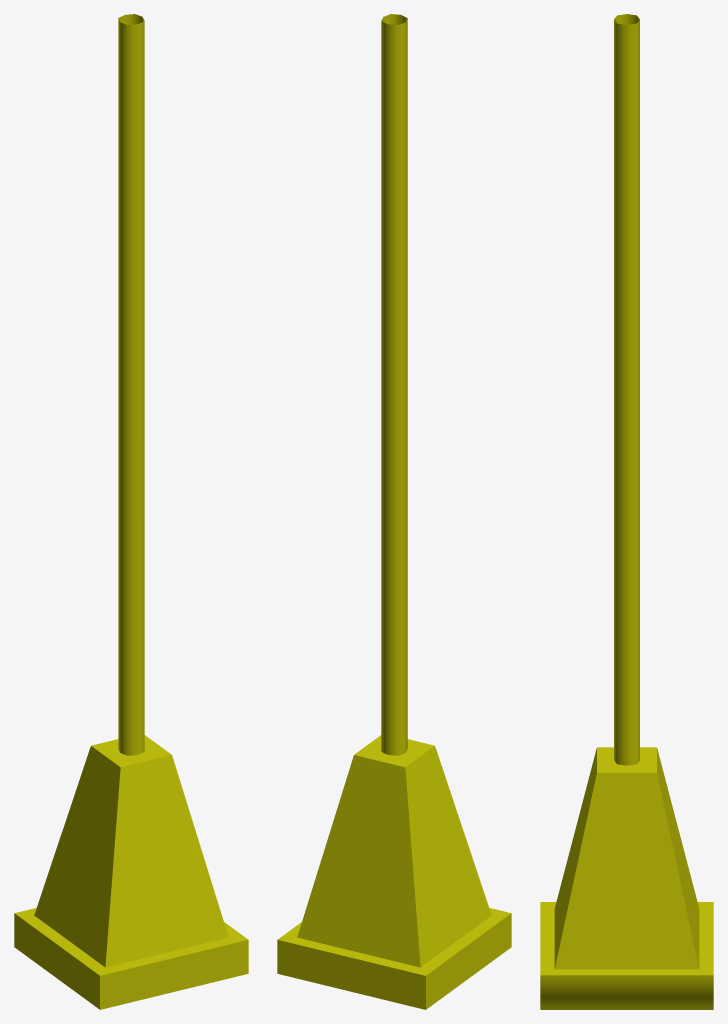
File: 2pod.fbx
The picture shows the model from 3 angles, left to right: view 1: azimuth 30°, elevation 25°; view 2: azimuth 150°, elevation 25°; view 3: azimuth 270°, elevation 25°; orthographic projection.
Visible parts, largest first — view 1: Mesh; view 2: Mesh; view 3: Mesh.
Part boxes in pixels (box(x1,y1,x2,y2)): Mesh: box(14, 14, 248, 1009); Mesh: box(277, 14, 511, 1009); Mesh: box(540, 14, 713, 1009).
Size of the model in its own units: 63.81 by 387 by 63.81.
